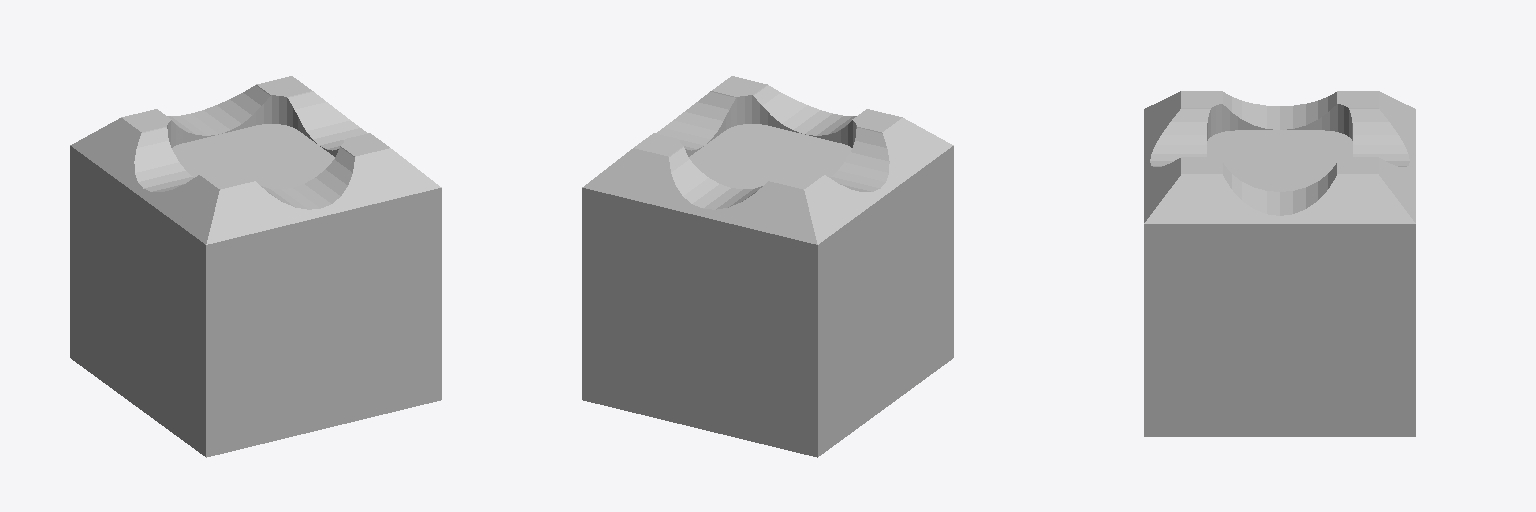
The model's file is WhiteBlock.obj.
3 renders of one model, left to right at view 1: azimuth 30°, elevation 25°; view 2: azimuth 150°, elevation 25°; view 3: azimuth 270°, elevation 25°, orthographic.
Parts seen in each view (by area): view 1: Cube.002; view 2: Cube.002; view 3: Cube.002.
Boxes of the visible parts, x1=… form: Cube.002: x1=70, y1=76, x2=441, y2=457; Cube.002: x1=582, y1=76, x2=953, y2=457; Cube.002: x1=1144, y1=91, x2=1415, y2=436.
Size of the model in its own units: 2 by 2 by 2.